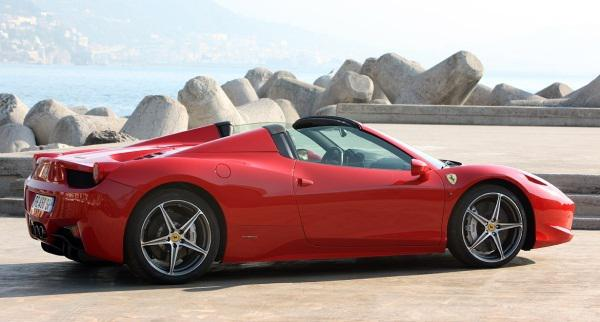Car: (21, 102, 590, 298)
